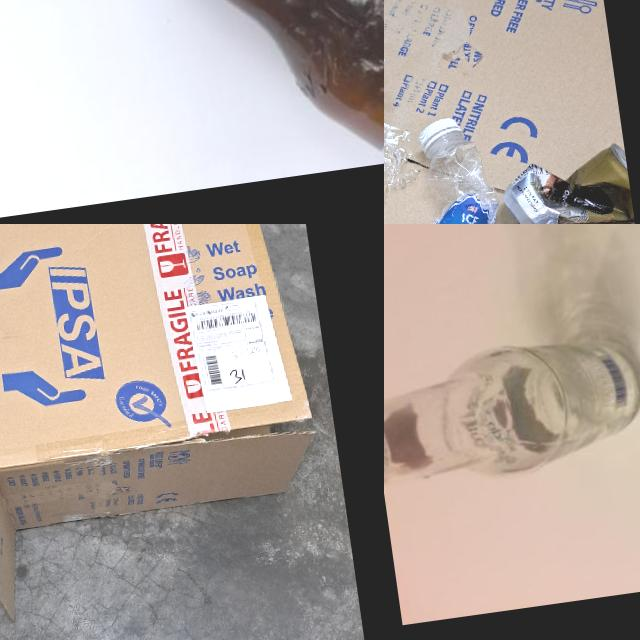garrafa de vidro: (51, 0, 384, 202), (384, 326, 640, 491)
garrafa plástica: (384, 113, 512, 224)
lata: (497, 143, 636, 224)
papelão: (0, 224, 337, 640), (384, 0, 640, 224)
tampa plástica: (418, 116, 466, 154)
